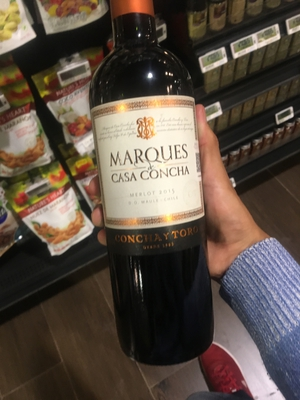marques de casa concha merlot: (78, 13, 229, 351)
